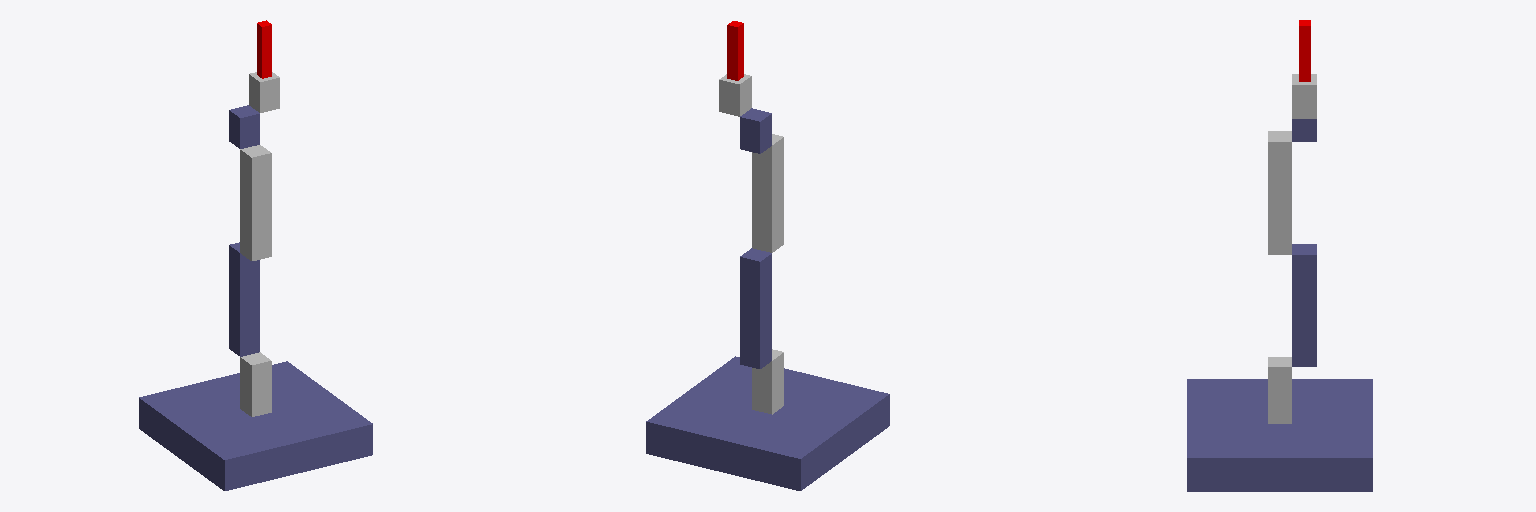
robot.urdf — arm_robot:
<?xml version="1.0" ?>
<robot name="arm_robot">
  <material name="red">
    <color rgba="1.0 0.0 0.0 1.0"/>
  </material>
  <material name="gray">
    <color rgba="0.4 0.4 0.6 1.0"/>
  </material>
  <material name="light_gray">
    <color rgba="0.8 0.8 0.8 1.0"/>
  </material>


  <link name="base_link"/>

  <!-- body joint & link -->
  <joint name="body_joint" type="fixed">
    <parent link="base_link"/>
    <child link="body_link"/>
  </joint>
  <link name="body_link">
    <collision>
      <origin rpy="0 0 0" xyz="0 0 0.03"/>
      <geometry>
        <box size="0.3 0.3 0.06"/>
      </geometry>
    </collision>
    <visual>
      <origin rpy="0 0 0" xyz="0 0 0.03"/>
      <geometry>
        <box size="0.3 0.3 0.06"/>
      </geometry>
      <material name="gray"/>
    </visual>
    <inertial>
      <origin rpy="0 0 0" xyz="0 0 0.075"/>
      <mass value="5"/>
      <inertia ixx="1.0" ixy="0.0" ixz="0.0" iyy="1.0" iyz="0.0" izz="1.0"/>
    </inertial>
  </link>

  <!-- arm1 joint & link -->
  <joint name="arm1_joint" type="revolute">
    <parent link="body_link"/>
    <child link="arm1_link"/>
    <origin rpy="0 0 0" xyz="0 0 0.06"/>
    <axis xyz="0 0 1"/>
    <limit effort="30" lower="-1.5" upper="1.5" velocity="1.5"/>
  </joint>
  <link name="arm1_link">
    <collision>
      <origin rpy="0 0 0" xyz="0 0 0.05"/>
      <geometry>
        <box size="0.04 0.04 0.1"/>
      </geometry>
    </collision>
    <visual>
      <origin rpy="0 0 0" xyz="0 0 0.05"/>
      <geometry>
        <box size="0.04 0.04 0.1"/>
      </geometry>
      <material name="light_gray"/>
    </visual>
    <inertial>
      <origin rpy="0 0 0" xyz="0 0 0.075"/>
      <mass value="0.1"/>
      <inertia ixx="0.01" ixy="0.0" ixz="0.0" iyy="0.01" iyz="0.0" izz="0.01"/>
    </inertial>
  </link>

  <!-- arm2 joint & link -->
  <joint name="arm2_joint" type="revolute">
    <parent link="arm1_link"/>
    <child link="arm2_link"/>
    <origin rpy="0 0 0" xyz="0 0.04 0.1"/>
    <axis xyz="0 1 0"/>
    <limit effort="30" lower="-2.0" upper="2.0" velocity="1.5"/>
  </joint>
  <link name="arm2_link">
    <collision>
      <origin rpy="0 0 0" xyz="0 0 0.10"/>
      <geometry>
        <box size="0.04 0.04 0.20"/>
      </geometry>
    </collision>
    <visual>
      <origin rpy="0 0 0" xyz="0 0 0.10"/>
      <geometry>
        <box size="0.04 0.04 0.20"/>
      </geometry>
      <material name="gray"/>
    </visual>
    <inertial>
      <origin rpy="0 0 0" xyz="0 0 0.06"/>
      <mass value="0.1"/>
      <inertia ixx="0.01" ixy="0.0" ixz="0.0" iyy="0.01" iyz="0.0" izz="0.01"/>
    </inertial>
  </link>

  <!-- arm3 joint & link -->
  <joint name="arm3_joint" type="revolute">
    <parent link="arm2_link"/>
    <child link="arm3_link"/>
    <origin rpy="0 0 0" xyz="0 -0.04 0.20"/>
    <axis xyz="0 1 0"/>
    <limit effort="30" lower="-2.8" upper="2.8" velocity="1.5"/>
  </joint>
  <link name="arm3_link">
    <collision>
      <origin rpy="0 0 0" xyz="0 0 0.10"/>
      <geometry>
        <box size="0.04 0.04 0.20"/>
      </geometry>
    </collision>
    <visual>
      <origin rpy="0 0 0" xyz="0 0 0.10"/>
      <geometry>
        <box size="0.04 0.04 0.20"/>
      </geometry>
      <material name="light_gray"/>
    </visual>
    <inertial>
      <origin rpy="0 0 0" xyz="0 0 0.06"/>
      <mass value="0.1"/>
      <inertia ixx="0.01" ixy="0.0" ixz="0.0" iyy="0.01" iyz="0.0" izz="0.01"/>
    </inertial>
  </link>

  <!-- arm4 joint & link -->
  <joint name="arm4_joint" type="revolute">
    <parent link="arm3_link"/>
    <child link="arm4_link"/>
    <origin rpy="0 0 0" xyz="0 0.04 0.20"/>
    <axis xyz="0 1 0"/>
    <limit effort="30" lower="-2.0" upper="2.0" velocity="1.5"/>
  </joint>
  <link name="arm4_link">
    <collision>
      <origin rpy="0 0 0" xyz="0 0 0.03"/>
      <geometry>
        <box size="0.04 0.04 0.06"/>
      </geometry>
    </collision>
    <visual>
      <origin rpy="0 0 0" xyz="0 0 0.03"/>
      <geometry>
        <box size="0.04 0.04 0.06"/>
      </geometry>
      <material name="gray"/>
    </visual>
    <inertial>
      <origin rpy="0 0 0" xyz="0 0 0.06"/>
      <mass value="0.1"/>
      <inertia ixx="0.01" ixy="0.0" ixz="0.0" iyy="0.01" iyz="0.0" izz="0.01"/>
    </inertial>
  </link>

  <!-- arm5 joint & link -->
  <joint name="arm5_joint" type="revolute">
    <parent link="arm4_link"/>
    <child link="arm5_link"/>
    <origin rpy="0 0 0" xyz="0.04 0 0.06"/>
    <axis xyz="1 0 0"/>
    <limit effort="30" lower="-2.0" upper="2.0" velocity="1.5"/>
  </joint>
  <link name="arm5_link">
    <collision>
      <origin rpy="0 0 0" xyz="0 0 0.03"/>
      <geometry>
        <box size="0.04 0.04 0.06"/>
      </geometry>
    </collision>
    <visual>
      <origin rpy="0 0 0" xyz="0 0 0.03"/>
      <geometry>
        <box size="0.04 0.04 0.06"/>
      </geometry>
      <material name="light_gray"/>
    </visual>
    <inertial>
      <origin rpy="0 0 0" xyz="0 0 0.06"/>
      <mass value="0.1"/>
      <inertia ixx="0.01" ixy="0.0" ixz="0.0" iyy="0.01" iyz="0.0" izz="0.01"/>
    </inertial>
  </link>

  <!-- arm6 joint & link -->
  <joint name="arm6_joint" type="revolute">
    <parent link="arm5_link"/>
    <child link="arm6_link"/>
    <origin rpy="0 0 0" xyz="0 0 0.06"/>
    <axis xyz="0 0 1"/>
    <limit effort="30" lower="-2.0" upper="2.0" velocity="1.5"/>
  </joint>
  <link name="arm6_link">
    <collision>
      <origin rpy="0 0 0" xyz="0 0 0.05"/>
      <geometry>
        <box size="0.02 0.02 0.1"/>
      </geometry>
    </collision>
    <visual>
      <origin rpy="0 0 0" xyz="0 0 0.05"/>
      <geometry>
        <box size="0.02 0.02 0.1"/>
      </geometry>
      <material name="red"/>
    </visual>
    <inertial>
      <origin rpy="0 0 0" xyz="0 0 0.06"/>
      <mass value="0.1"/>
      <inertia ixx="0.01" ixy="0.0" ixz="0.0" iyy="0.01" iyz="0.0" izz="0.01"/>
    </inertial>
  </link>

  <!-- target joint & link -->
  <joint name="target_joint" type="fixed">
    <parent link="arm6_link"/>
    <child link="target_link"/>
    <origin rpy="0 -1.5707 0" xyz="0 0 0.07"/>
  </joint>
  <link name="target_link"/>

</robot>

--- Facts derived from the render (not from the file) ---
3 views of the same robot in one strip: view 1: azimuth 30°, elevation 25°; view 2: azimuth 150°, elevation 25°; view 3: azimuth 270°, elevation 25° (orthographic).
Model arm_robot with 9 links and 8 joints (6 revolute, 2 fixed), rooted at base_link, posed all joints at 0.
Visible links, largest first — view 1: body_link, arm3_link, arm2_link, arm1_link, arm4_link, arm5_link, arm6_link; view 2: body_link, arm2_link, arm3_link, arm1_link, arm4_link, arm5_link, arm6_link; view 3: body_link, arm2_link, arm3_link, arm1_link, arm5_link, arm6_link, arm4_link.
Boxes of the visible links, x1,y1,x2,y2 form: body_link: (139,361,372,490); arm3_link: (240,145,271,260); arm2_link: (229,242,259,356); arm1_link: (240,352,271,416); arm4_link: (229,105,259,148); arm5_link: (249,72,279,112); arm6_link: (257,20,271,78); body_link: (646,356,889,490); arm2_link: (740,248,771,368); arm3_link: (752,134,783,252); arm1_link: (752,349,783,414); arm4_link: (740,108,771,153); arm5_link: (719,74,751,116); arm6_link: (727,21,743,80); body_link: (1187,379,1372,491); arm2_link: (1292,244,1316,366); arm3_link: (1268,131,1291,254); arm1_link: (1268,357,1291,423); arm5_link: (1292,74,1316,118); arm6_link: (1299,20,1310,81); arm4_link: (1292,119,1316,141).
Bounding box of the posed robot: 0.3 × 0.3 × 0.78 m (x, y, z).
Geometry: primitives only (box / cylinder / sphere), no mesh files.